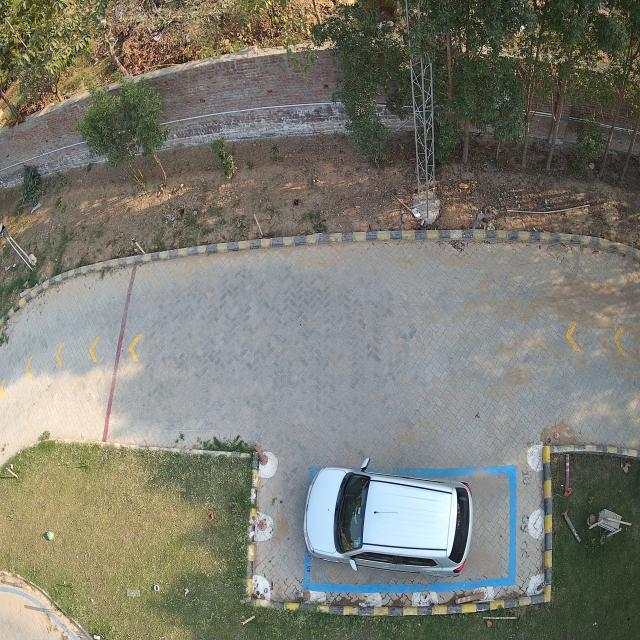car: (303, 466, 474, 577)
